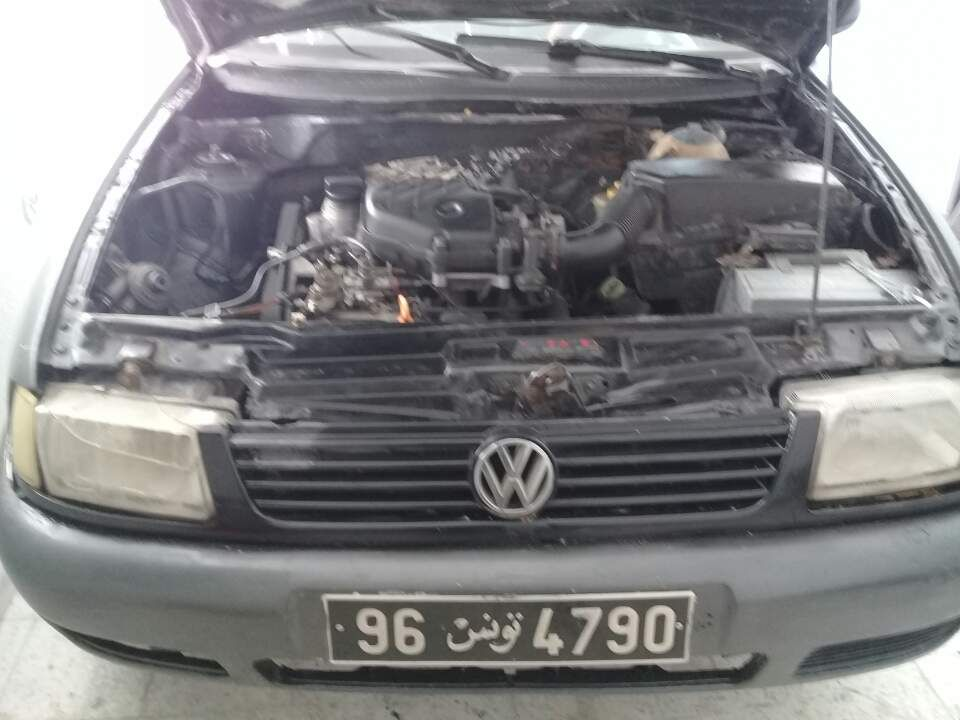LP: (321, 593, 702, 667)
